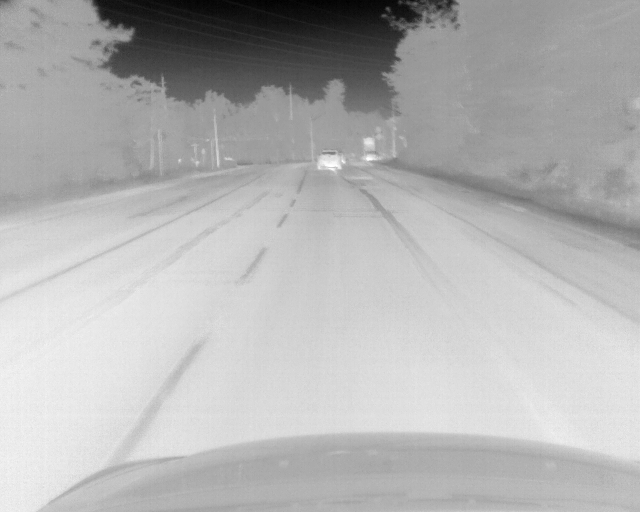car: (315, 148, 342, 171), (361, 151, 378, 162)
